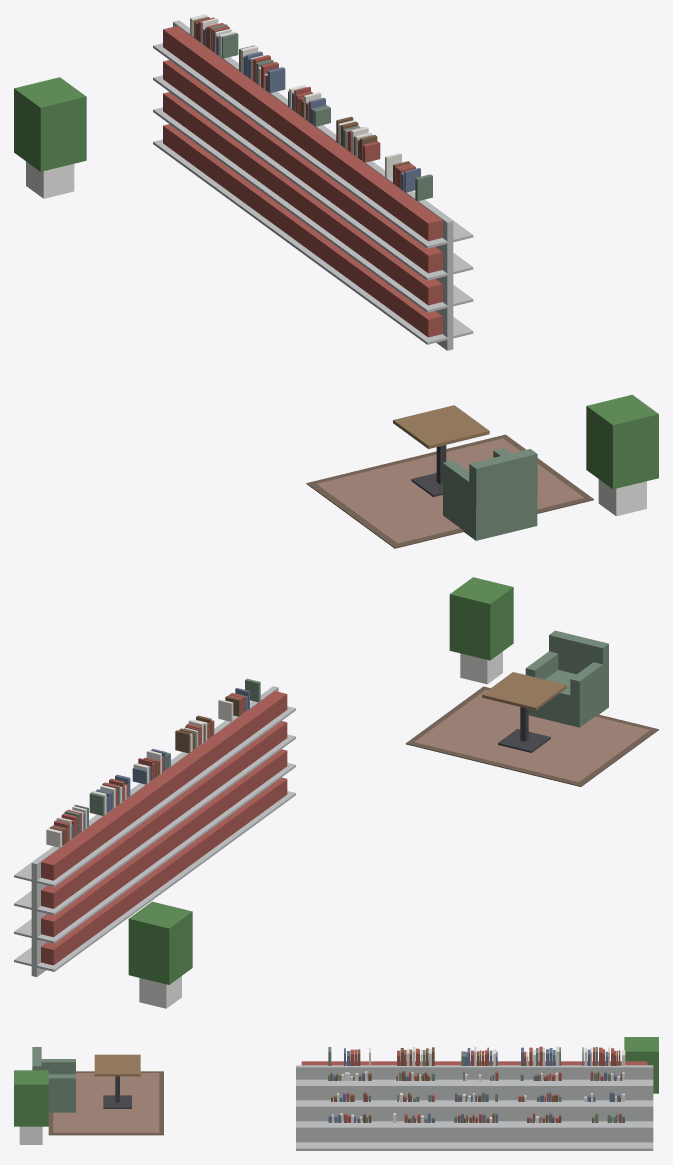
The model's file is fine-s2.glb.
3 renders of one model, top to bottom at view 1: azimuth 30°, elevation 25°; view 2: azimuth 150°, elevation 25°; view 3: azimuth 270°, elevation 25°, orthographic. The views are drawn at different scales.
Visible parts, largest first — view 1: soft-s2, shelving.009, shelving.005, shelving.006, shelving.008, shelving.007, plant-medium.003, plant-medium.002, sofa.001, coffee-table.001; view 2: soft-s2, shelving.005, shelving.009, shelving.006, shelving.007, shelving.008, plant-medium.002, plant-medium.003, sofa.001, coffee-table.001; view 3: soft-s2, shelving.005, shelving.009, shelving.006, shelving.007, shelving.008, plant-medium.002, sofa.001, coffee-table.001, plant-medium.003.
Boxes of the visible parts, bbox=[...] form: soft-s2: bbox=[190, 14, 593, 548]; shelving.009: bbox=[347, 163, 473, 350]; shelving.005: bbox=[153, 20, 278, 201]; shelving.006: bbox=[201, 59, 326, 237]; shelving.008: bbox=[299, 127, 393, 308]; shelving.007: bbox=[250, 91, 375, 273]; plant-medium.003: bbox=[14, 77, 86, 198]; plant-medium.002: bbox=[586, 394, 658, 516]; sofa.001: bbox=[443, 448, 537, 540]; coffee-table.001: bbox=[393, 405, 489, 496]; soft-s2: bbox=[46, 678, 658, 847]; shelving.005: bbox=[14, 813, 124, 976]; shelving.009: bbox=[214, 686, 295, 845]; shelving.006: bbox=[84, 783, 167, 938]; shelving.007: bbox=[123, 752, 210, 908]; shelving.008: bbox=[167, 719, 253, 870]; plant-medium.002: bbox=[449, 577, 513, 684]; plant-medium.003: bbox=[128, 901, 192, 1008]; sofa.001: bbox=[525, 630, 608, 727]; coffee-table.001: bbox=[482, 672, 566, 752]; soft-s2: bbox=[48, 1046, 625, 1135]; shelving.005: bbox=[549, 1061, 653, 1150]; shelving.009: bbox=[296, 1061, 399, 1150]; shelving.006: bbox=[486, 1061, 589, 1150]; shelving.007: bbox=[422, 1061, 526, 1150]; shelving.008: bbox=[359, 1061, 462, 1150]; plant-medium.002: bbox=[14, 1070, 48, 1144]; sofa.001: bbox=[32, 1047, 75, 1112]; coffee-table.001: bbox=[94, 1054, 140, 1108]; plant-medium.003: bbox=[624, 1037, 658, 1093].
Bounding box in the file's own units: 3.5 × 1.93 × 11.19.
